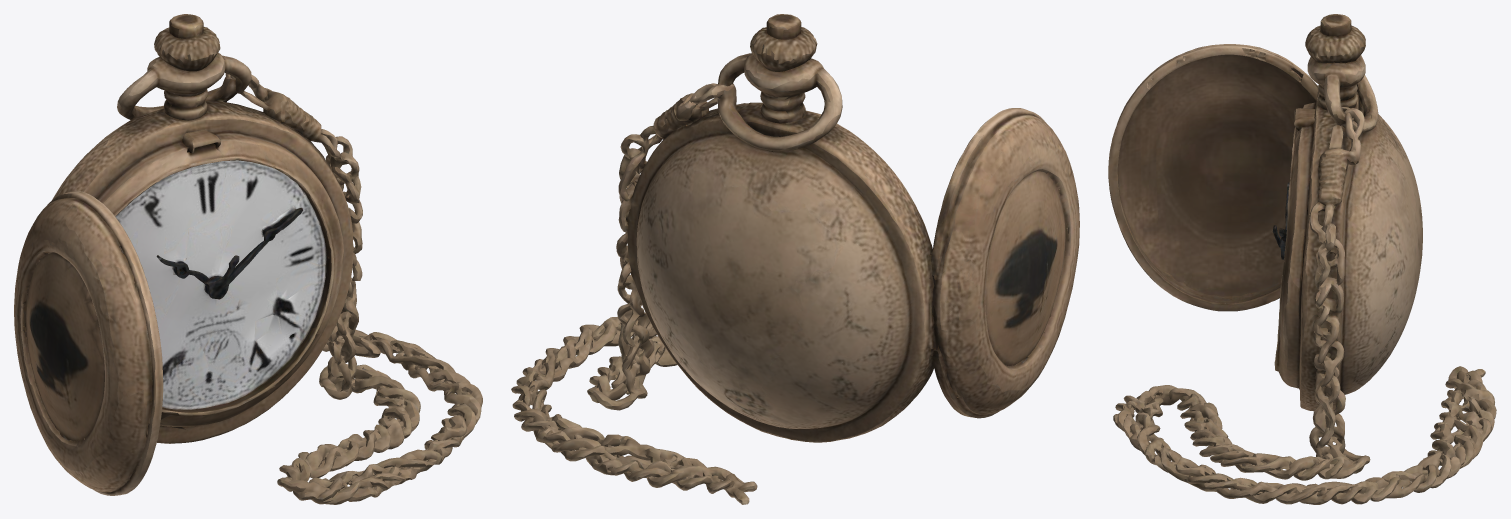
Rendered from parts.glb.
The picture shows the model from 3 angles, left to right: view 1: azimuth 30°, elevation 25°; view 2: azimuth 150°, elevation 25°; view 3: azimuth 270°, elevation 25°; orthographic projection. The views are drawn at different scales.
Bounding box in the file's own units: 0.05 × 0.045 × 0.0415.
3 materials, 3 textured.
